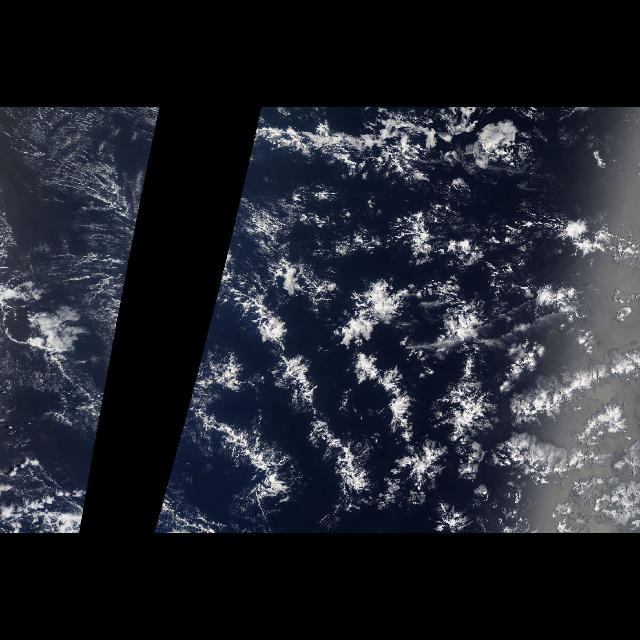Flower: (198, 254, 556, 500)
Sugar: (0, 108, 150, 248)
